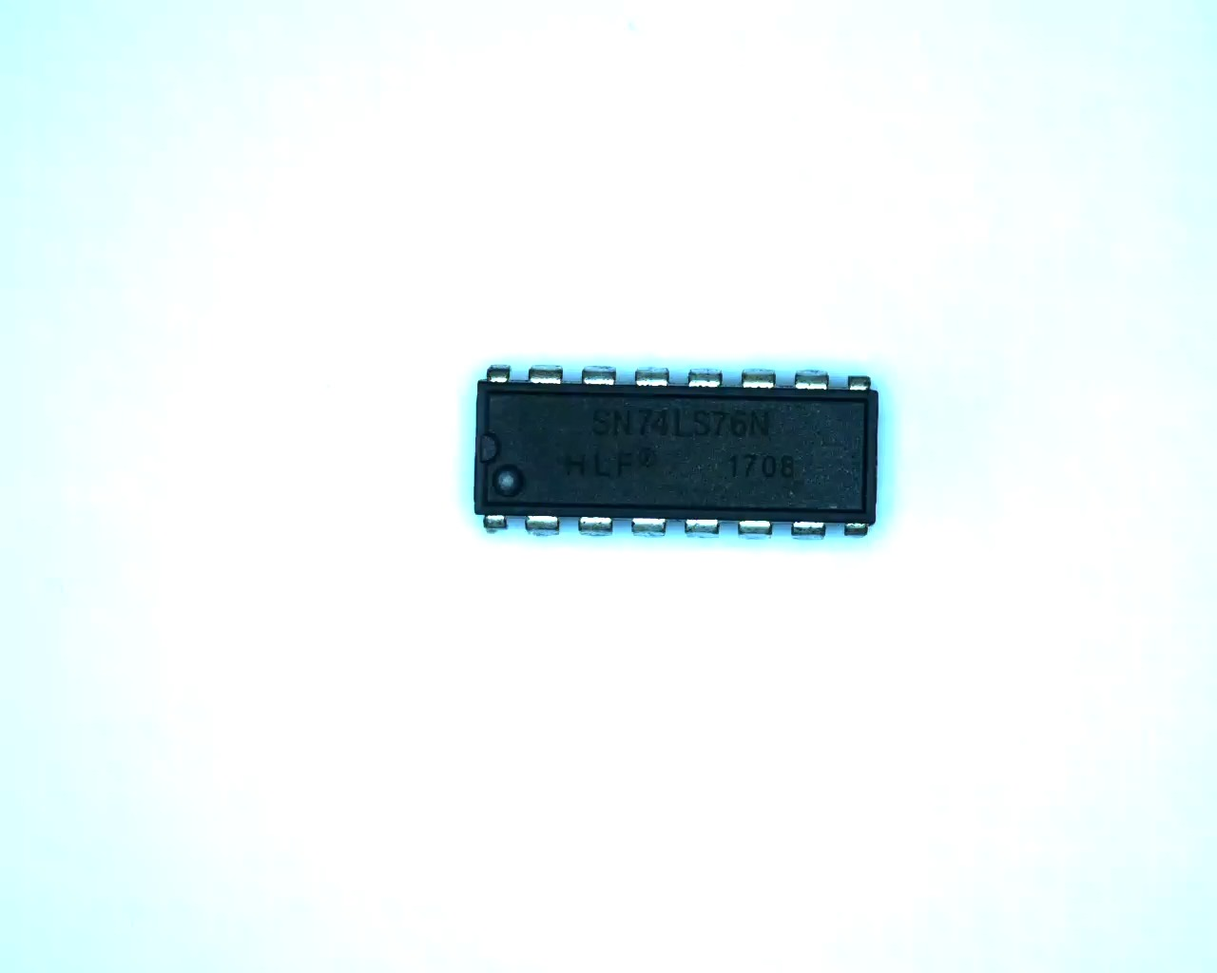IC: (475, 362, 880, 540)
notch: (474, 430, 503, 468)
